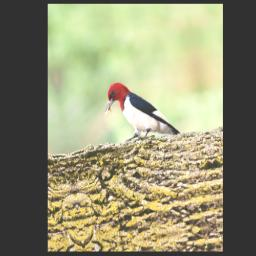Woodpecker: (101, 72, 180, 147)
